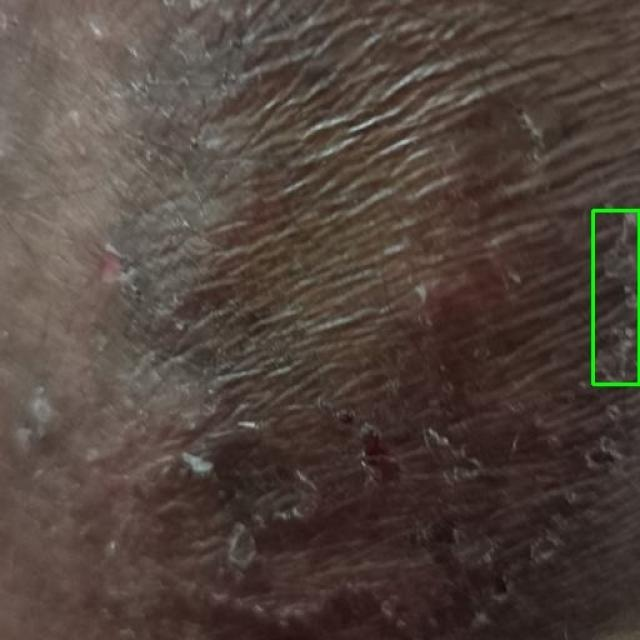Tinea Corporis: (592, 210, 639, 384)
